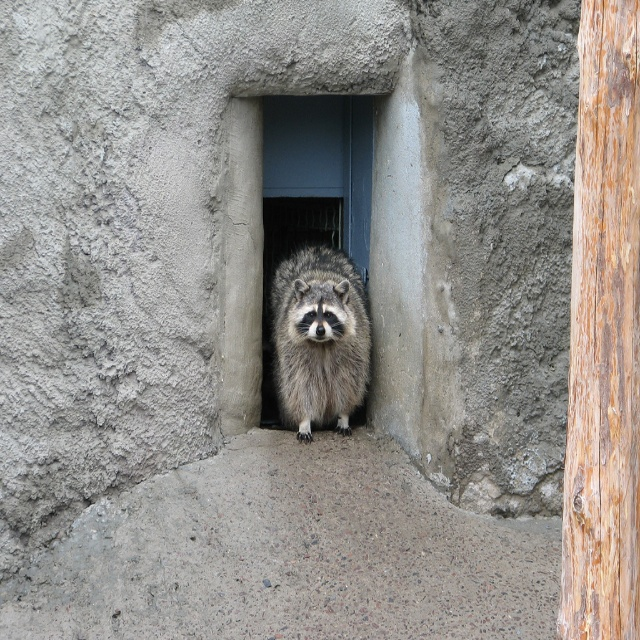Raccoon: (270, 247, 371, 439)
